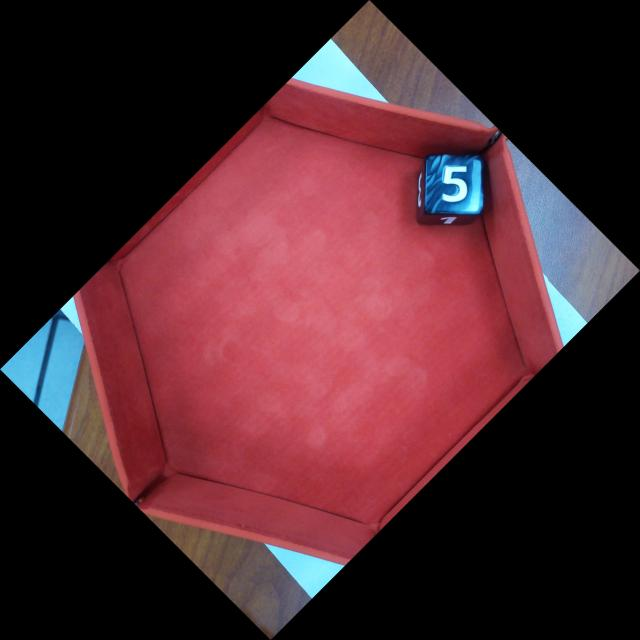dice: (423, 152, 486, 217)
